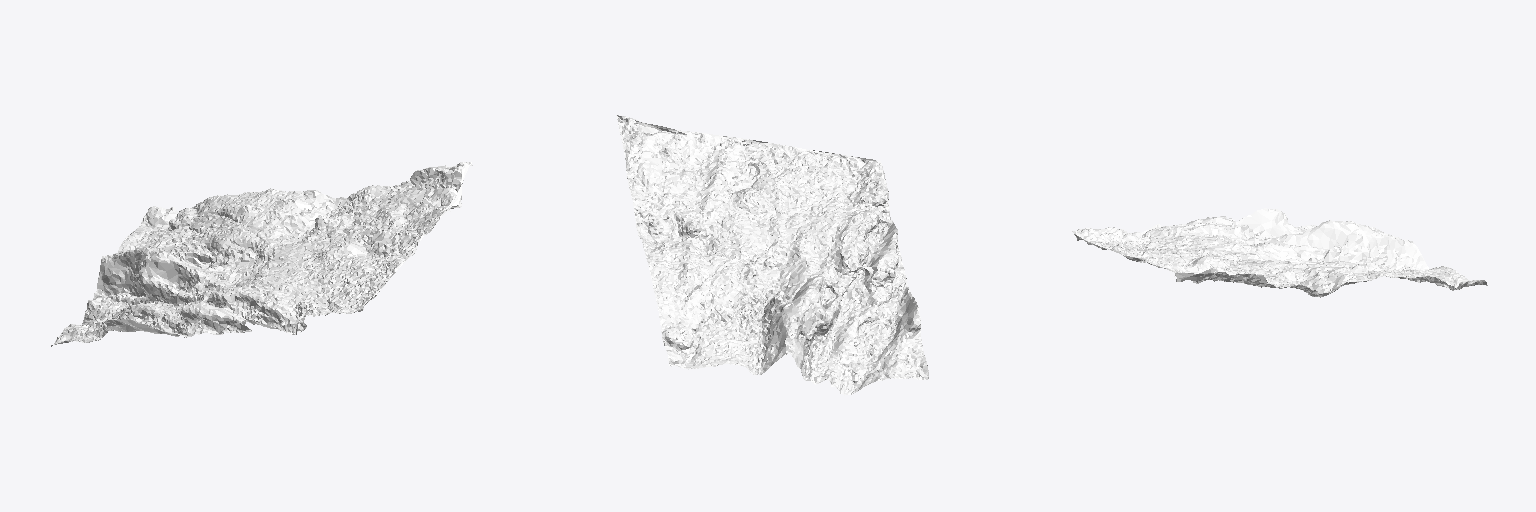
The model's file is tile_0_4.obj.
3 views of the same model, side by side, from view 1: azimuth 30°, elevation 25°; view 2: azimuth 150°, elevation 25°; view 3: azimuth 270°, elevation 25° (orthographic).
Parts seen in each view (by area): view 1: texture_0; view 2: texture_0; view 3: texture_0.
Part boxes in pixels (x1,y1,x2,y2): texture_0: (51,162,472,346); texture_0: (616,115,929,395); texture_0: (1072,208,1487,297).
Bounding box in the file's own units: 0.4036 × 0.1539 × 0.397.